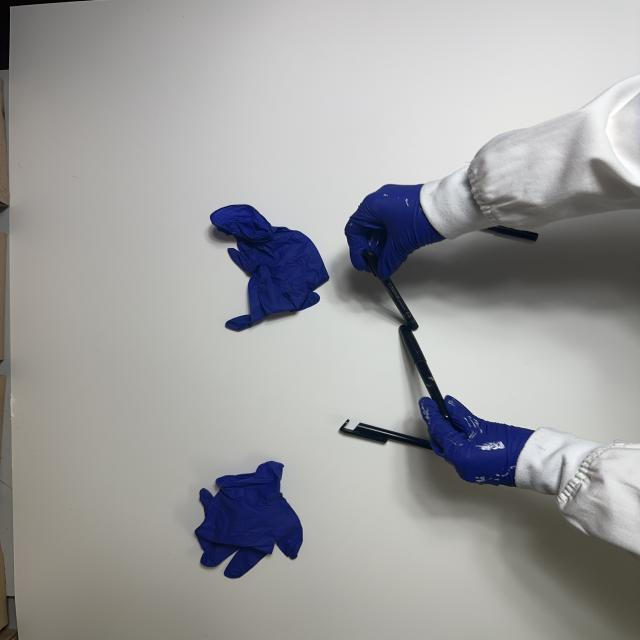gloves_contaminated: (420, 396, 533, 486), (345, 184, 444, 279)
